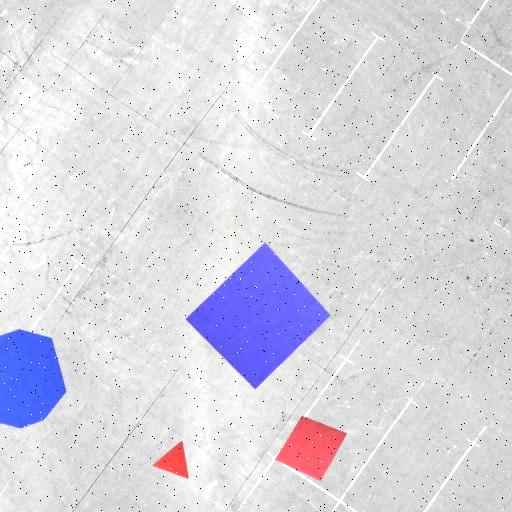BLUE_SQUARE: (185, 242, 331, 390)
RED_SQUARE: (274, 415, 347, 482)
